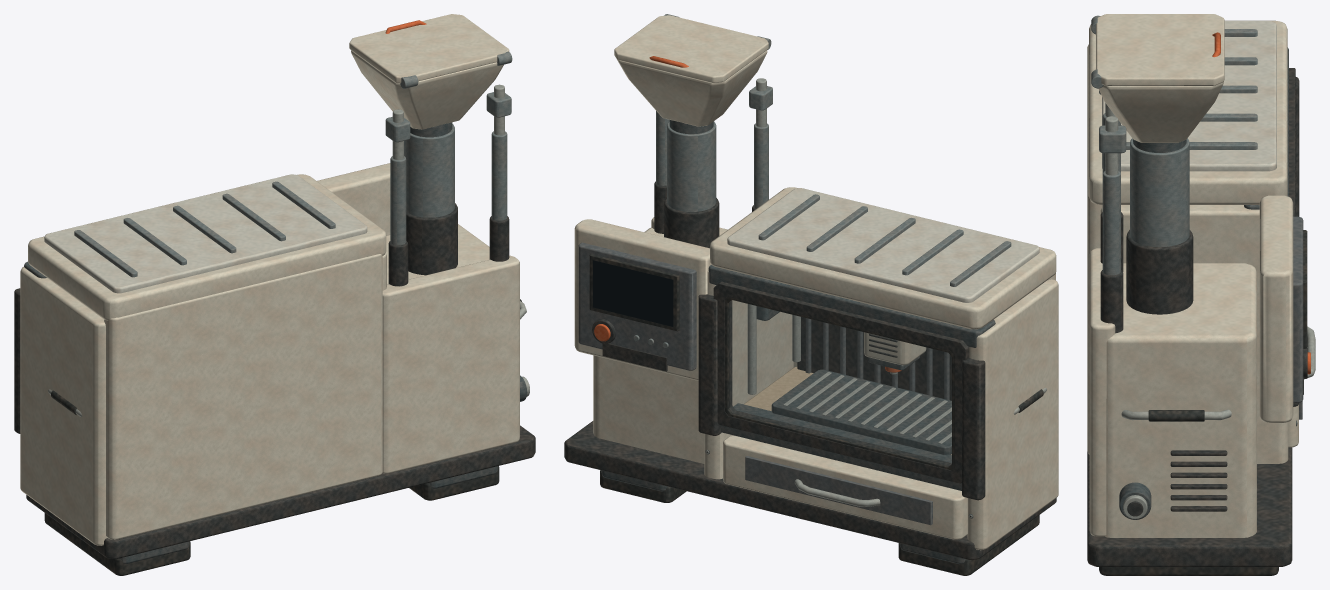
Rendered from print_shop_printer.glb.
3 views of the same model, side by side, from view 1: azimuth 30°, elevation 25°; view 2: azimuth 150°, elevation 25°; view 3: azimuth 270°, elevation 25° (orthographic). The views are drawn at different scales.
Parts seen in each view (by area): view 1: PrintShopPrinter_hardware_rover_white, Roof_access_panel_white_painted, PrintShopPrinter_hardware_graphite, HopperMidGuides_hardware_alloy, HopperCover_rover_white, Feedstock_hopper_rover_white, PrintShopPrinter_hardware_alloy, PrintShopPrinter_hardware_black_rubber, PrintShopPrinter_hardware_dark_alloy; view 2: PrintShopPrinter_hardware_rover_white, PrintShopPrinter_hardware_graphite, ChamberWindow, Roof_access_panel_white_painted, PrintShopPrinter_hardware_dark_alloy, PrintShopPrinter_hardware_slate_panel, Output_drawer_fascia_rover_white, PrintShopPrinter_hardware_black_rubber, HopperCover_rover_white, HopperMidGuides_hardware_alloy, Feedstock_hopper_rover_white, OutputDrawer_hardware_slate_panel (+7 smaller); view 3: PrintShopPrinter_hardware_rover_white, PrintShopPrinter_hardware_graphite, HopperCover_rover_white, Roof_access_panel_white_painted, HopperMidGuides_hardware_alloy, Feedstock_hopper_rover_white, PrintShopPrinter_hardware_black_rubber, PrintShopPrinter_hardware_slate_panel, PrintShopPrinter_hardware_alloy, PrintShopPrinter_hardware_dark_alloy, Hopper_lift_cross_carriage_alloy.001, Fabricator_padded_grip_black_rubber.001 (+6 smaller).
Part boxes in pixels (x1,y1,x2,y2): PrintShopPrinter_hardware_rover_white: [20, 163, 519, 545]; Roof_access_panel_white_painted: [44, 174, 367, 293]; PrintShopPrinter_hardware_graphite: [14, 203, 535, 558]; HopperMidGuides_hardware_alloy: [390, 124, 507, 245]; HopperCover_rover_white: [349, 14, 509, 83]; Feedstock_hopper_rover_white: [351, 50, 503, 129]; PrintShopPrinter_hardware_alloy: [74, 181, 335, 277]; PrintShopPrinter_hardware_black_rubber: [44, 466, 499, 575]; PrintShopPrinter_hardware_dark_alloy: [24, 261, 527, 563]; PrintShopPrinter_hardware_rover_white: [574, 187, 1058, 550]; PrintShopPrinter_hardware_graphite: [564, 181, 1056, 560]; ChamberWindow: [730, 300, 951, 465]; Roof_access_panel_white_painted: [727, 188, 1039, 302]; PrintShopPrinter_hardware_dark_alloy: [601, 265, 995, 564]; PrintShopPrinter_hardware_slate_panel: [578, 242, 949, 400]; Output_drawer_fascia_rover_white: [723, 435, 967, 539]; PrintShopPrinter_hardware_black_rubber: [589, 254, 1039, 575]; HopperCover_rover_white: [614, 15, 768, 82]; HopperMidGuides_hardware_alloy: [656, 111, 768, 211]; Feedstock_hopper_rover_white: [617, 50, 767, 126]; OutputDrawer_hardware_slate_panel: [745, 456, 932, 525]; PrintShopPrinter_hardware_rover_white: [1087, 20, 1293, 537]; PrintShopPrinter_hardware_graphite: [1087, 68, 1307, 566]; HopperCover_rover_white: [1096, 14, 1224, 85]; Roof_access_panel_white_painted: [1102, 21, 1276, 171]; HopperMidGuides_hardware_alloy: [1102, 113, 1189, 275]; Feedstock_hopper_rover_white: [1098, 82, 1223, 142]; PrintShopPrinter_hardware_black_rubber: [1099, 230, 1307, 575]; PrintShopPrinter_hardware_slate_panel: [1293, 216, 1303, 402]; PrintShopPrinter_hardware_alloy: [1126, 29, 1257, 149]; PrintShopPrinter_hardware_dark_alloy: [1119, 47, 1296, 519]; Hopper_lift_cross_carriage_alloy.001: [1099, 125, 1126, 153]; Fabricator_padded_grip_black_rubber.001: [1148, 410, 1204, 421].
Size of the model in its own units: 1.58 by 1.46 by 0.595.
Materials: 13 (10 with a texture image).
